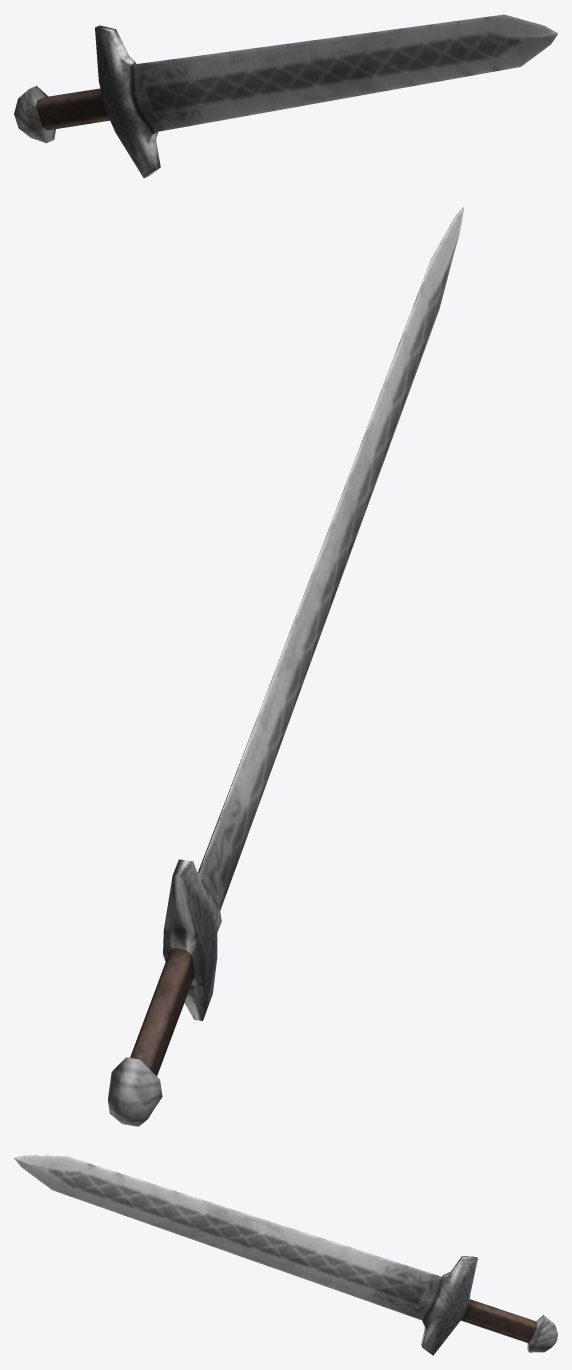
File: weapon-ironweapons.glb
3 views of the same model, one above another, from view 1: azimuth 30°, elevation 25°; view 2: azimuth 150°, elevation 25°; view 3: azimuth 270°, elevation 25° (orthographic). The views are drawn at different scales.
Bounding box in the file's own units: 0.2389 × 0.5055 × 1.03.
1 material, 1 textured.
